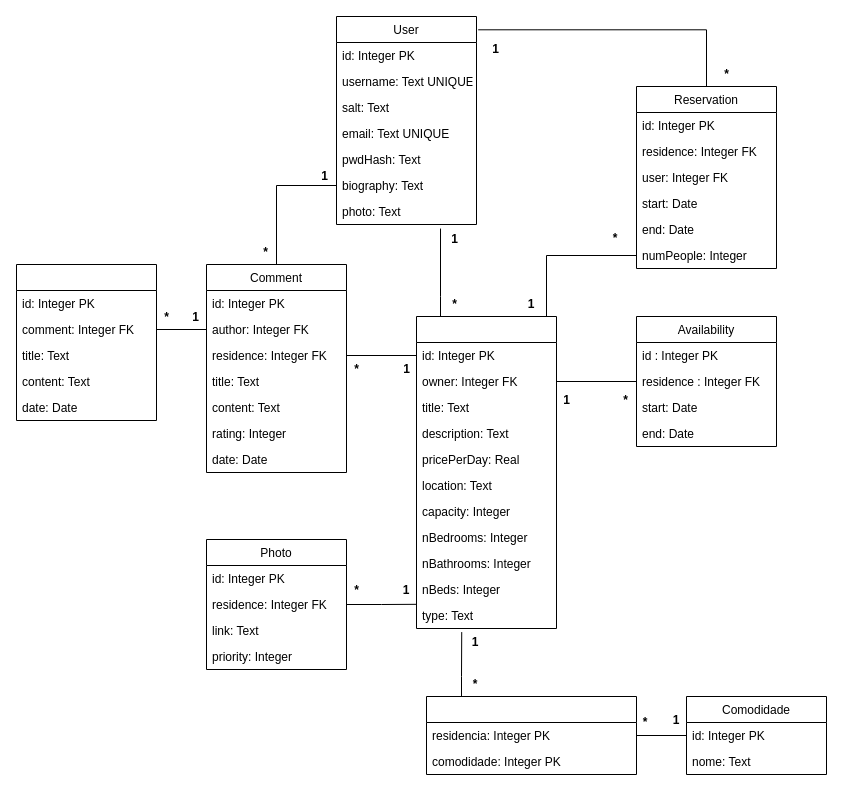
Some shapes in this 843 by 791 pixel diagram are drawn without their labels. Here are the shapes that lost their labels. From the top down, the box of each, then its label:
(16, 264, 156, 420): Reply
(416, 316, 556, 628): Residence
(426, 696, 636, 774): ResidenciaTemComodidade
